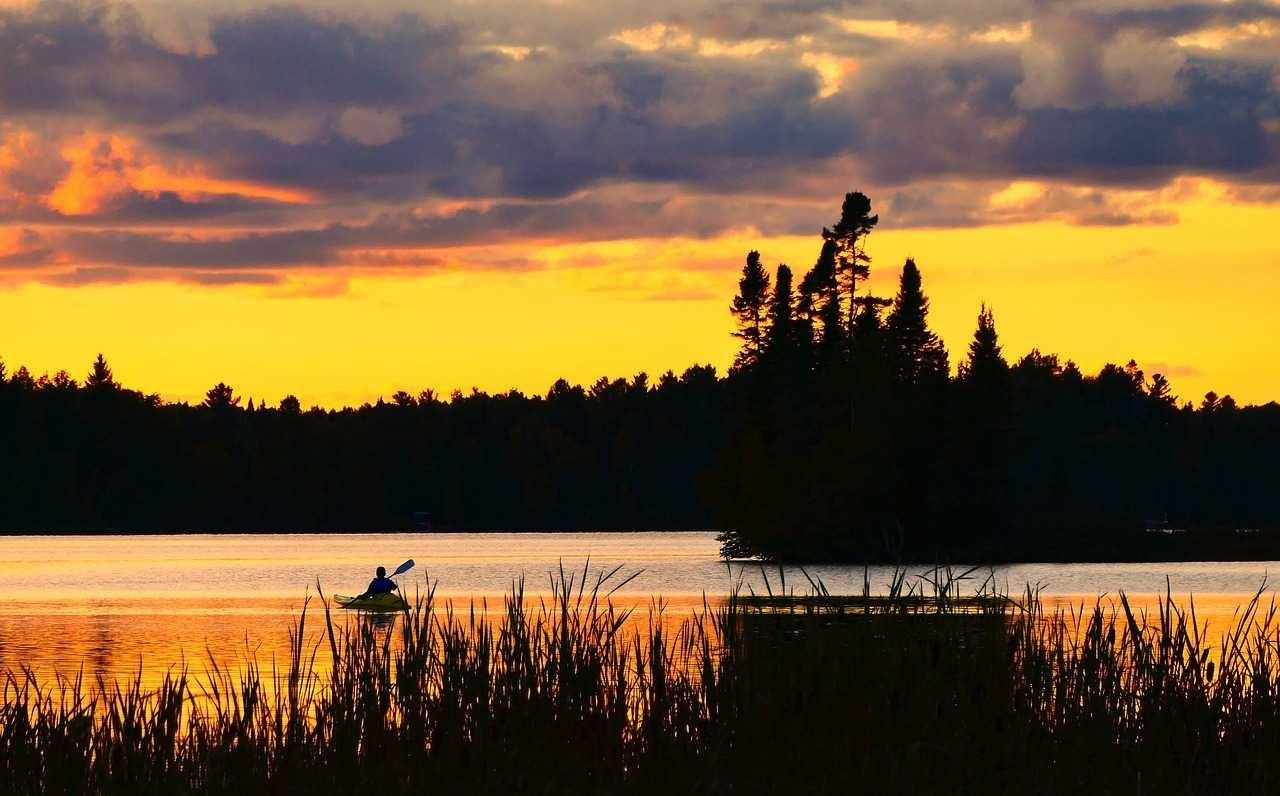kayak: (335, 593, 411, 612)
